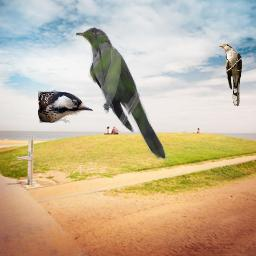Cuckoo: (76, 27, 170, 161), (219, 44, 242, 106)
Woodpecker: (38, 89, 93, 123)
